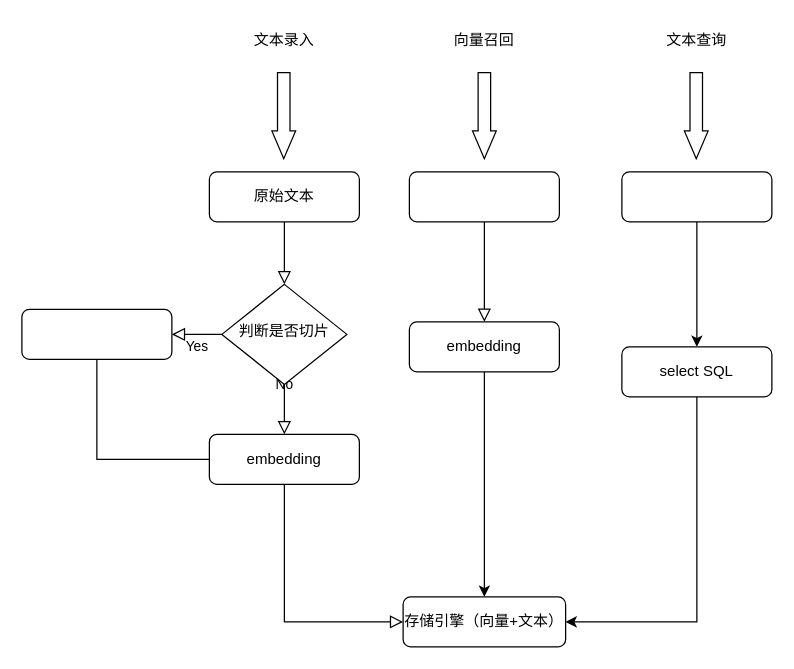
Some shapes in this 794 by 669 pixel diagram are drawn without their labels. Here are the shapes that lost their labels. From the top down, the centre of each, then its label:
At point 483,196: "搜索文本".
At point 696,196: "搜索条件".
At point 96,333: "切片".
